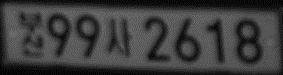1: (205, 17, 232, 64)
2: (144, 16, 171, 62)
6: (174, 17, 201, 62)
8: (235, 17, 263, 64)
9: (76, 14, 101, 59), (46, 13, 71, 57)
부산_V: (19, 11, 45, 59)
사: (106, 17, 133, 57)
